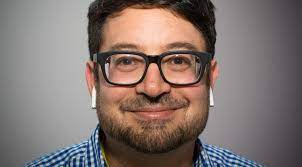earphone: (85, 60, 98, 109), (208, 58, 219, 107)
